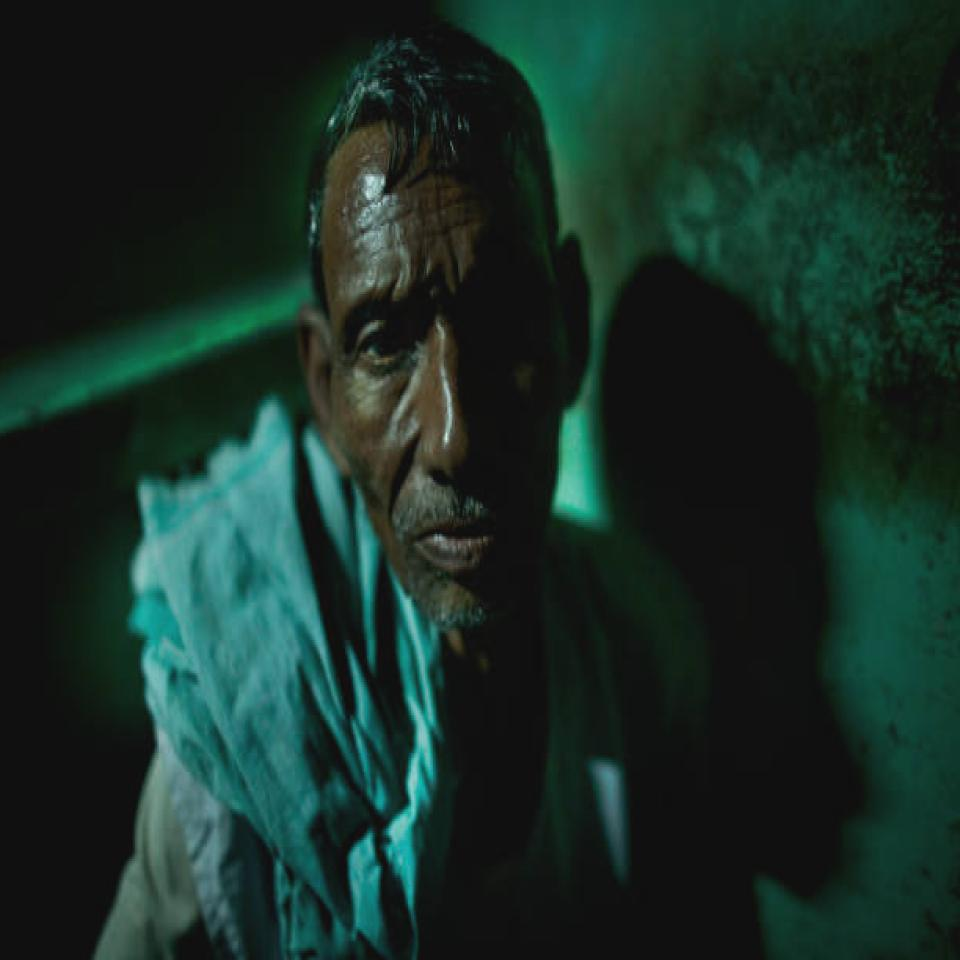Sadness: (311, 129, 573, 613)
